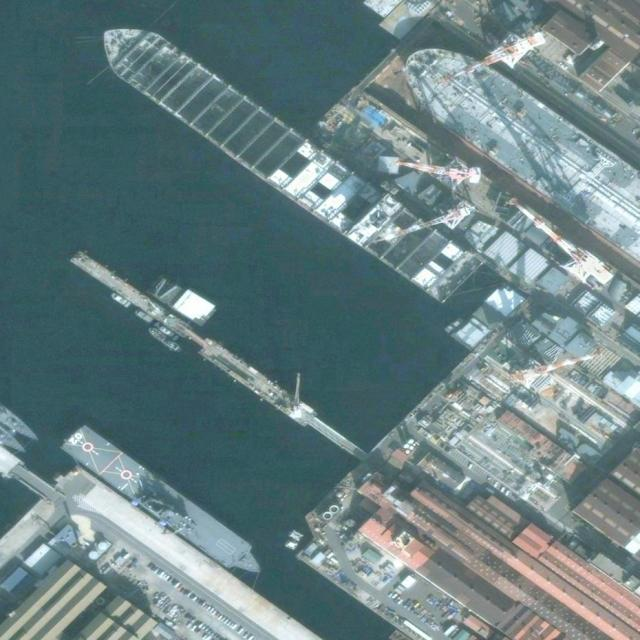Cargo: (85, 6, 490, 314)
Dock: (74, 250, 365, 461)
Landing: (58, 421, 269, 584)
